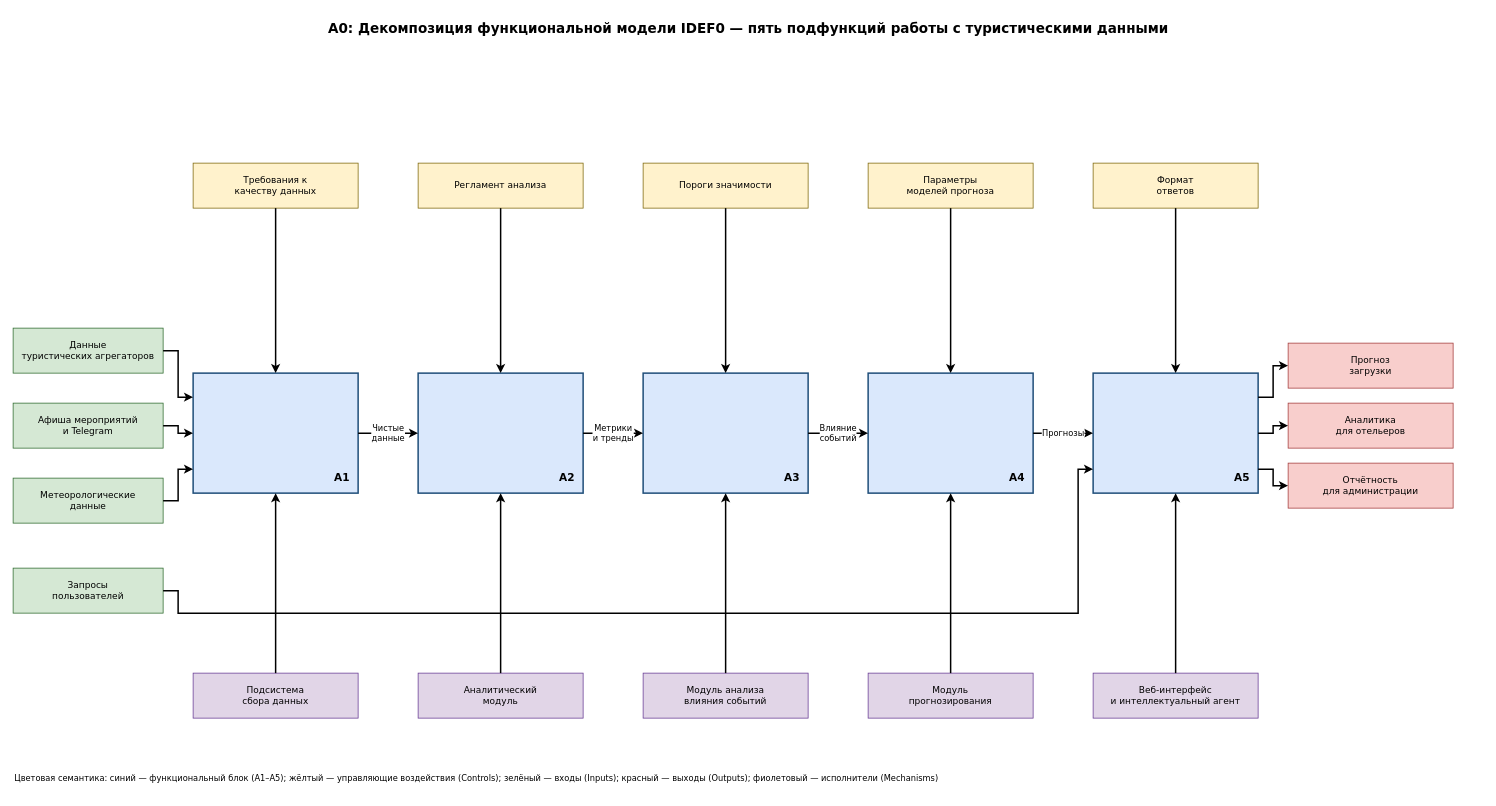
Image size: 1496x806. Some labels were removed from this diagram. The shapes that lost their labels are listed below. From the top down, each one's box as (x1, y1, x2, y2) in pixels, then its label:
(192, 372, 358, 494): Собирать и нормализовать туристические данные
(417, 372, 584, 494): Анализировать исторические данные туризма
(642, 372, 808, 494): Анализировать влияние туристических событий
(867, 372, 1034, 494): Прогнозировать занятость и цены
(1092, 372, 1258, 494): Предоставлять аналитику пользователю
